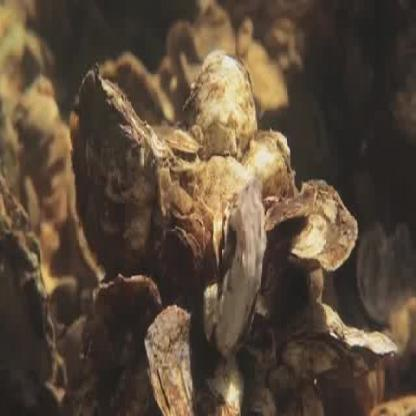Oyster- Indeterminate: (162, 226, 200, 292), (332, 326, 399, 361), (212, 205, 236, 279), (357, 358, 387, 412), (307, 108, 329, 156)
Oyster-Closed: (70, 72, 170, 281), (0, 183, 66, 416), (176, 51, 259, 160), (216, 179, 267, 355), (88, 275, 162, 370), (284, 180, 359, 267), (146, 304, 203, 416), (103, 55, 172, 126), (183, 156, 252, 211), (244, 132, 293, 198), (244, 41, 287, 109), (267, 182, 315, 236), (207, 354, 245, 413), (283, 339, 339, 379), (197, 9, 238, 57), (167, 21, 201, 65), (160, 129, 201, 153), (371, 396, 416, 416), (237, 21, 252, 59), (181, 53, 194, 90)
